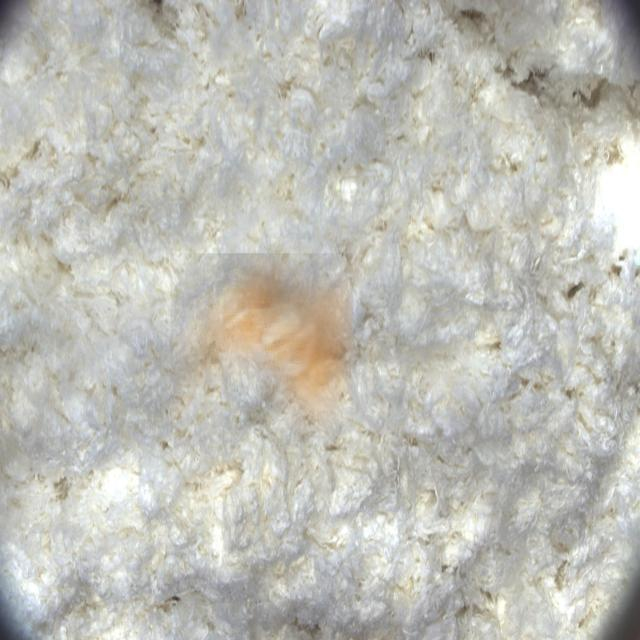dust: (171, 254, 353, 435)
